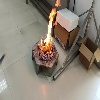fire: (40, 0, 61, 55)
